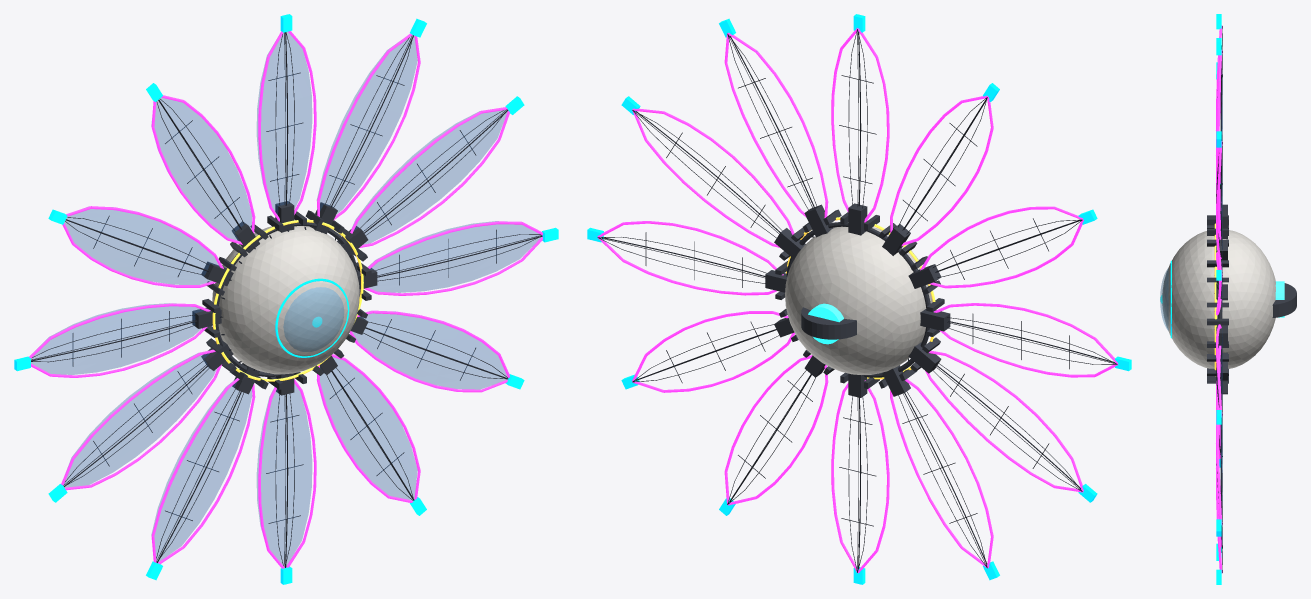
The model's file is daisy_class_spaceship.glb.
The picture shows the model from 3 angles, left to right: view 1: azimuth 30°, elevation 25°; view 2: azimuth 150°, elevation 25°; view 3: azimuth 270°, elevation 25°; orthographic projection. The views are drawn at different scales.
Parts seen in each view (by area): view 1: faceted_spherical_main_hull, translucent_blue_petal_panel_06, translucent_blue_petal_panel_01, translucent_blue_petal_panel_07, translucent_blue_petal_panel_03, translucent_blue_petal_panel_08, translucent_blue_petal_panel_09, translucent_blue_petal_panel_05, translucent_blue_petal_panel_02, translucent_blue_petal_panel_12, translucent_blue_petal_panel_11, translucent_blue_petal_panel_04 (+4 smaller); view 2: faceted_spherical_main_hull, rear_circular_blue_engine_port, outer_mechanical_equator_ring; view 3: faceted_spherical_main_hull, rear_circular_blue_engine_port, large_blue_front_observation_dome, amber_micro_light_ring.
Boxes of the visible parts, x1,y1,x2,y2 form: faceted_spherical_main_hull: (212, 226, 359, 374); translucent_blue_petal_panel_06: (64, 209, 219, 284); translucent_blue_petal_panel_01: (368, 221, 540, 292); translucent_blue_petal_panel_07: (31, 303, 203, 374); translucent_blue_petal_panel_03: (317, 35, 417, 213); translucent_blue_petal_panel_08: (64, 353, 216, 487); translucent_blue_petal_panel_09: (151, 379, 251, 561); translucent_blue_petal_panel_05: (154, 98, 251, 240); translucent_blue_petal_panel_02: (352, 110, 506, 243); translucent_blue_petal_panel_12: (352, 313, 507, 389); translucent_blue_petal_panel_11: (320, 357, 417, 499); translucent_blue_petal_panel_04: (257, 32, 311, 214); faceted_spherical_main_hull: (785, 226, 932, 374); rear_circular_blue_engine_port: (801, 307, 856, 339); outer_mechanical_equator_ring: (786, 222, 930, 377); faceted_spherical_main_hull: (1162, 230, 1275, 368); rear_circular_blue_engine_port: (1272, 283, 1296, 317); large_blue_front_observation_dome: (1160, 268, 1168, 330); amber_micro_light_ring: (1214, 223, 1216, 376).
Size of the model in its own units: 10.94 by 10.94 by 2.62.
